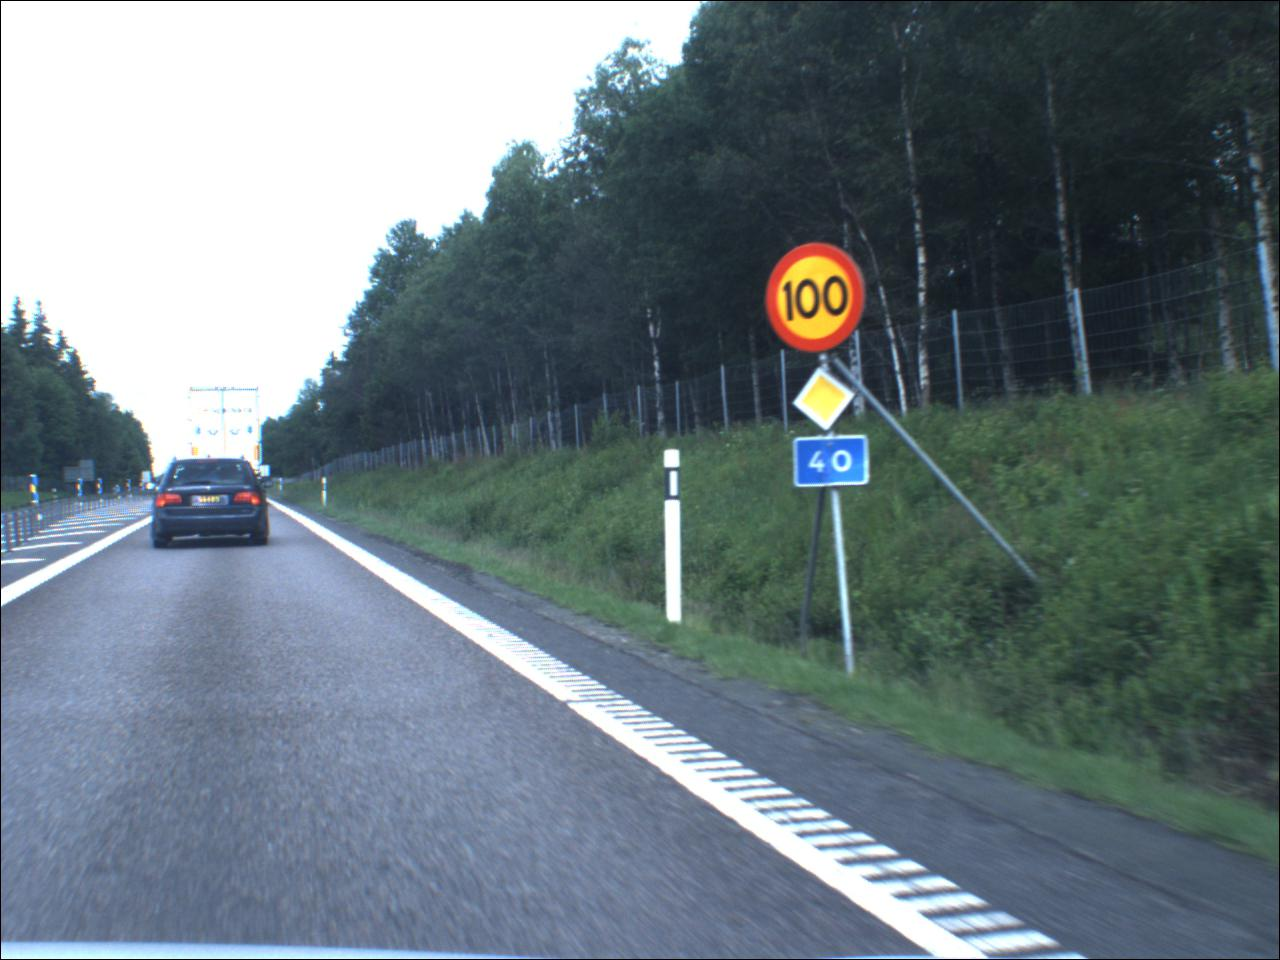100_SIGN: (764, 244, 868, 354)
PRIORITY_ROAD: (792, 367, 858, 434)
